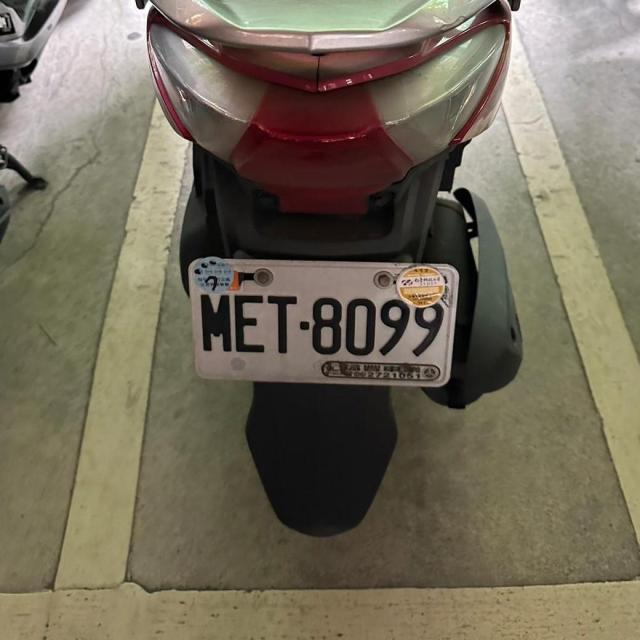W: (179, 247, 462, 392)
